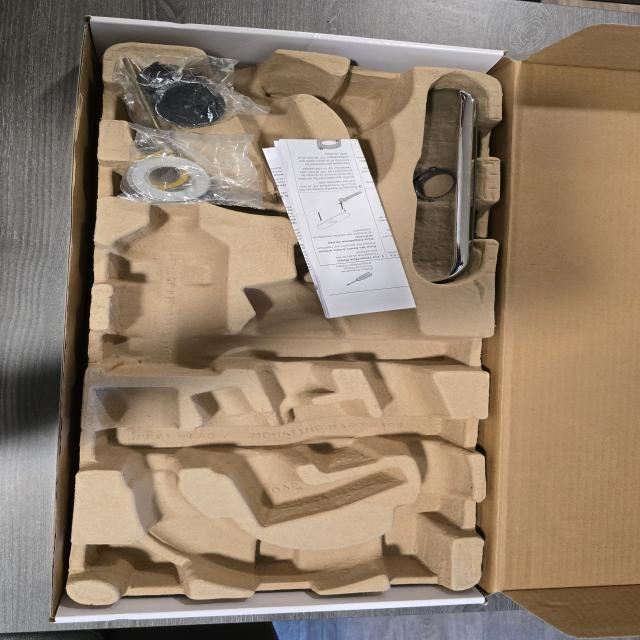1m: (95, 49, 475, 591)
2m: (192, 389, 407, 529)
3m: (106, 202, 230, 375)
4: (410, 88, 479, 283)
5m: (334, 77, 400, 131)
6: (118, 124, 268, 210)
7o: (109, 54, 273, 137)
8: (260, 137, 420, 321)
